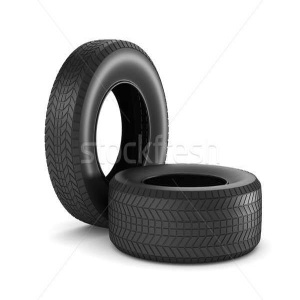tire: (45, 39, 177, 222), (107, 162, 266, 266)
